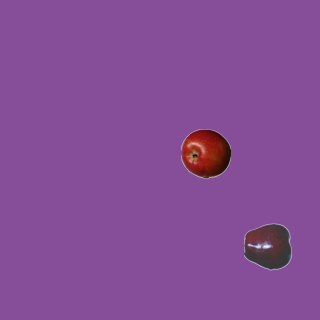Apple Braeburn: (180, 128, 230, 178)
Apple Red Delicious: (243, 221, 293, 271)
